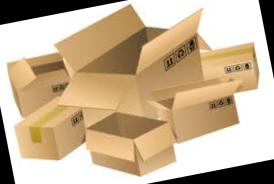cardboard: (73, 98, 183, 184), (144, 65, 248, 150), (6, 92, 94, 174)
